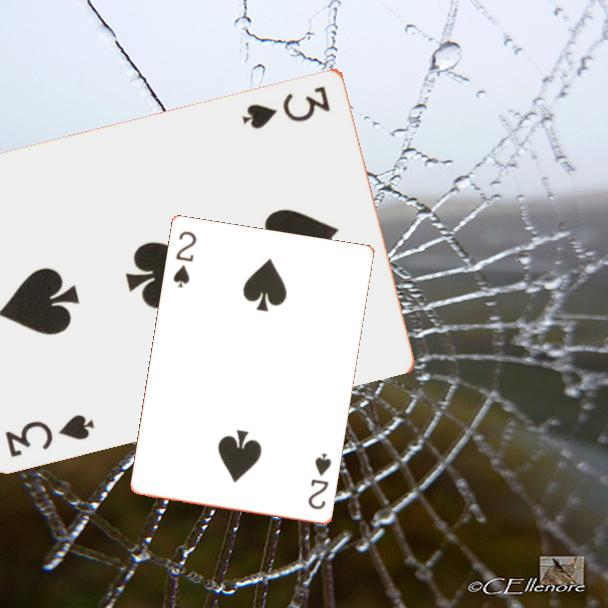s02: (305, 450, 335, 513), (170, 228, 200, 291)
s03: (2, 410, 98, 460), (238, 82, 334, 131)
